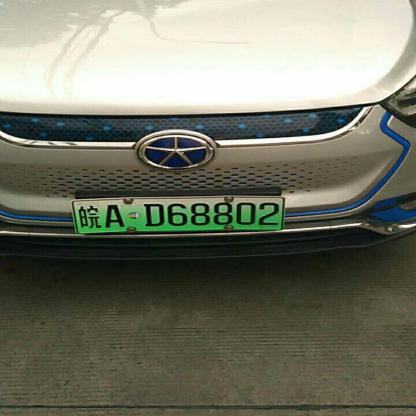lp: (73, 196, 282, 232)
